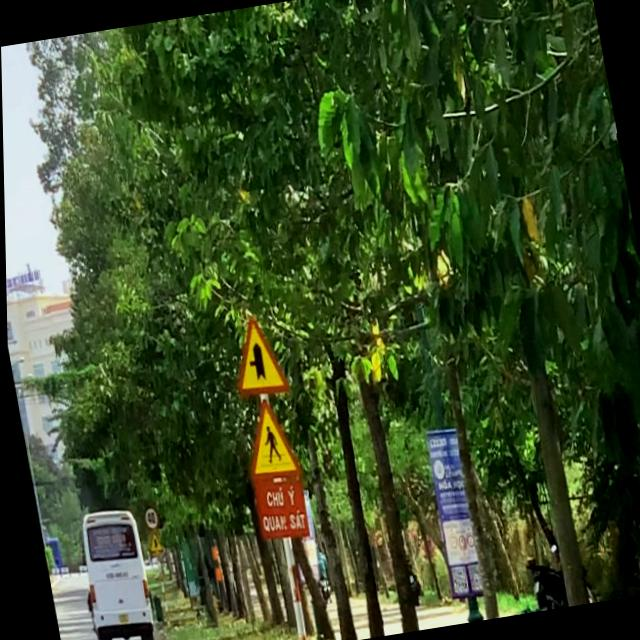Giao nhau voi duong khong uu tien ben trai: (222, 304, 292, 400)
Nguoi di bo cat ngang: (236, 392, 301, 483)
